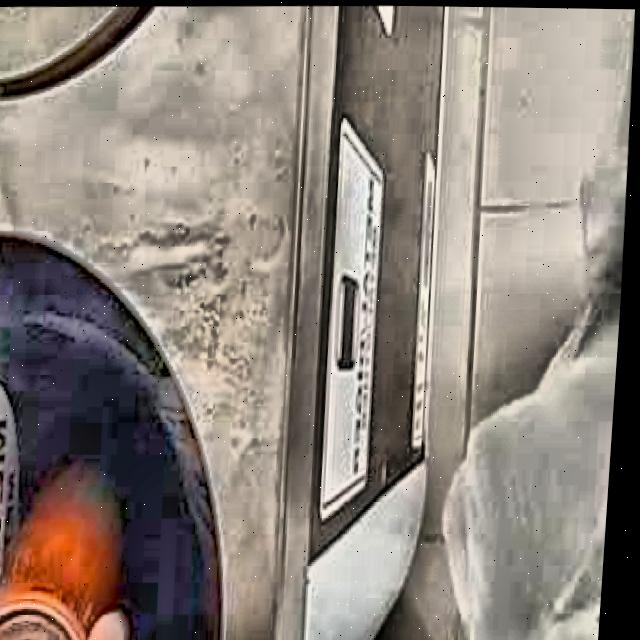metal: (0, 480, 122, 640)
